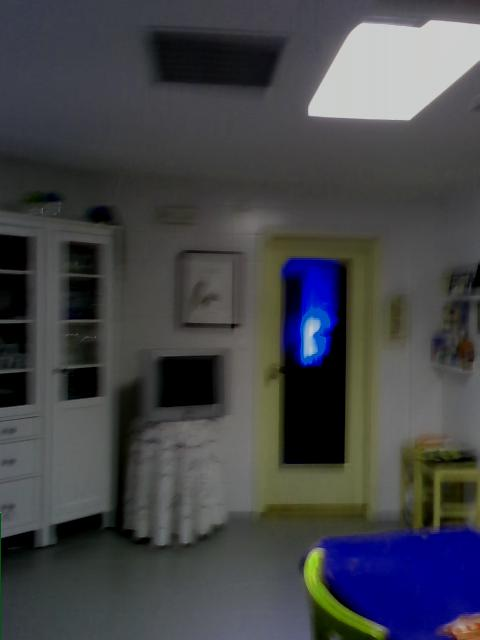closed_door: (254, 238, 374, 521)
